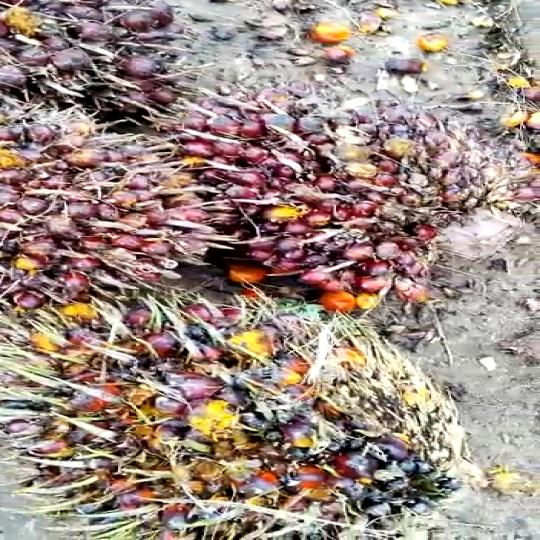masak: (0, 296, 463, 540), (173, 81, 492, 300), (0, 93, 212, 304)
